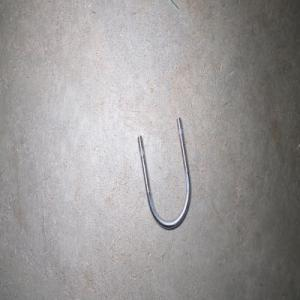ClampPart: (136, 116, 191, 230)
